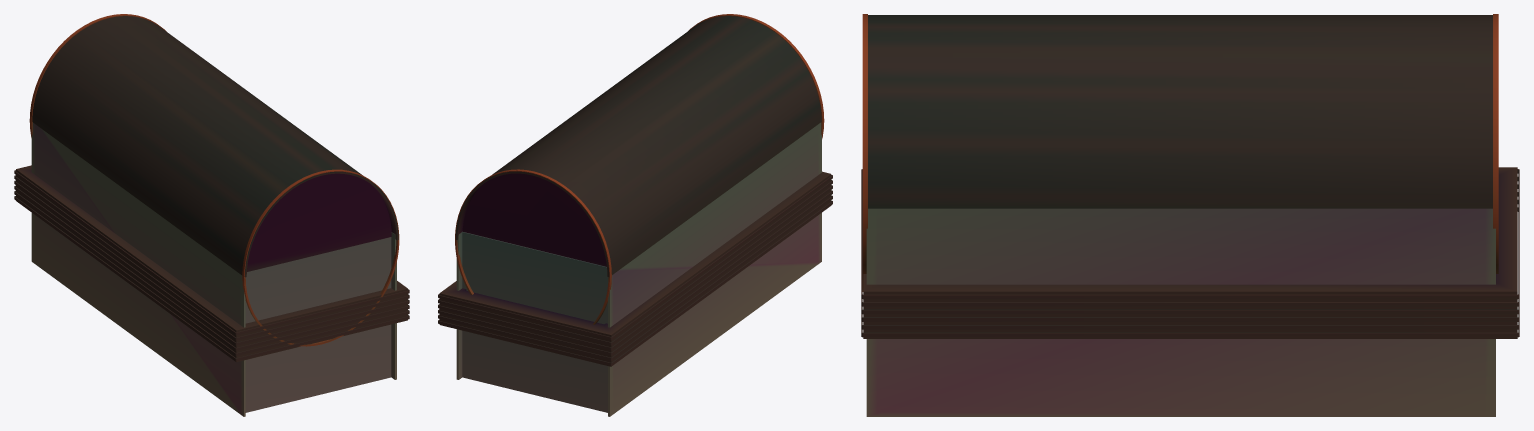
3 renders of one model, left to right at view 1: azimuth 30°, elevation 25°; view 2: azimuth 150°, elevation 25°; view 3: azimuth 270°, elevation 25°, orthographic. The views are drawn at different scales.
Visible parts, largest first — view 1: vault, side, molding, arch_edge.001, arch_edge; view 2: vault, side, molding, arch_edge, arch_edge.001; view 3: vault, side, molding, arch_edge.001, arch_edge.
Boxes of the visible parts, x1,y1,x2,y2 form: vault: (32,16,398,277); side: (31,122,396,416); molding: (14,165,409,362); arch_edge.001: (242,169,399,346); arch_edge: (29,14,166,137); vault: (455,16,821,276); side: (456,122,821,416); molding: (438,171,832,366); arch_edge: (455,169,611,324); arch_edge.001: (688,14,824,138); vault: (868,15,1492,208); side: (866,208,1495,416); molding: (861,167,1519,338); arch_edge.001: (862,14,867,291); arch_edge: (1493,14,1498,273).
Size of the model in its own units: 0.815 by 1.01 by 1.8.
